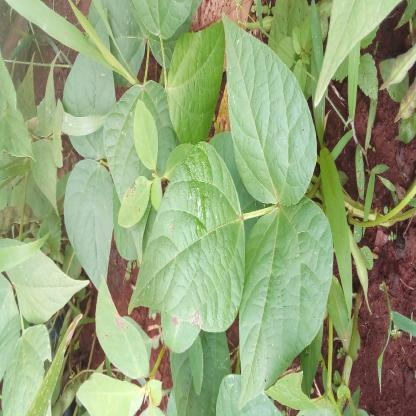Beans_Angular_LeafSpot: (128, 144, 244, 327), (239, 207, 335, 399), (89, 276, 154, 378)
